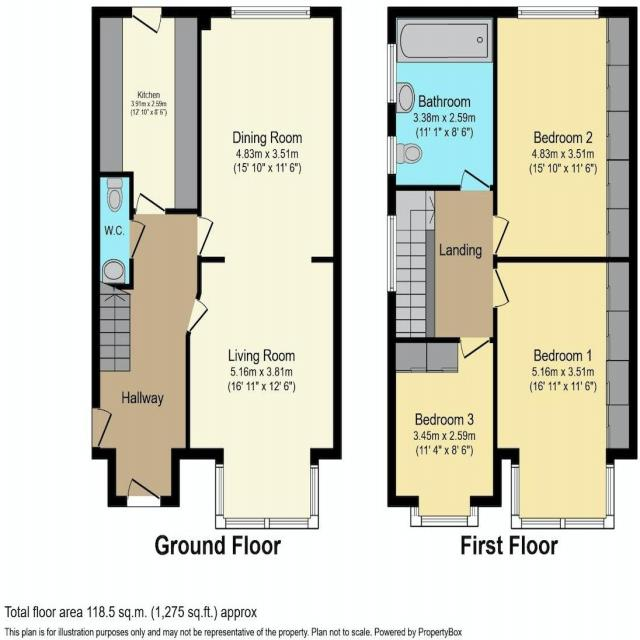DOOR: (125, 7, 168, 40), (124, 474, 161, 508), (186, 294, 211, 339), (128, 216, 150, 266), (92, 405, 115, 449), (457, 337, 495, 362), (457, 165, 492, 192), (491, 265, 511, 312), (135, 187, 169, 214), (492, 212, 513, 255), (197, 214, 217, 257)
ROOM: (187, 5, 343, 530), (491, 256, 638, 529), (492, 6, 638, 263), (91, 6, 202, 214), (387, 337, 498, 528)
WINDOW: (509, 461, 617, 532), (214, 460, 320, 532), (408, 502, 480, 530), (516, 4, 603, 24), (228, 3, 313, 22), (385, 212, 399, 294), (385, 40, 398, 106), (383, 133, 399, 176)
